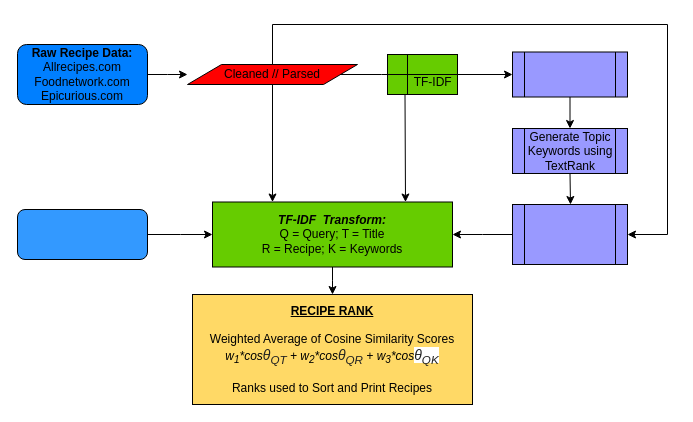
Some shapes in this 693 by 422 pixel diagram are drawn without their labels. The shapes that lost their labels are listed below. From the top down, each one's box as (x1, y1, x2, y2) in pixels, then its label:
(512, 51, 628, 97): NMF Topic Modelling
(16, 208, 148, 260): User-Inputted Query: Individual Ingredients Ingredient Rank
(512, 204, 628, 264): Append Keywords to Topic Related Recipes
